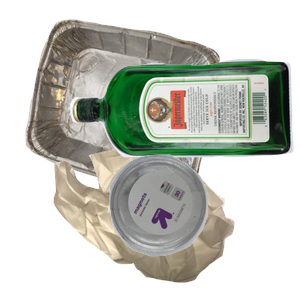glass: (67, 56, 300, 206)
metal: (23, 17, 236, 197)
plastic: (107, 152, 300, 300)
trash: (51, 142, 278, 300)
